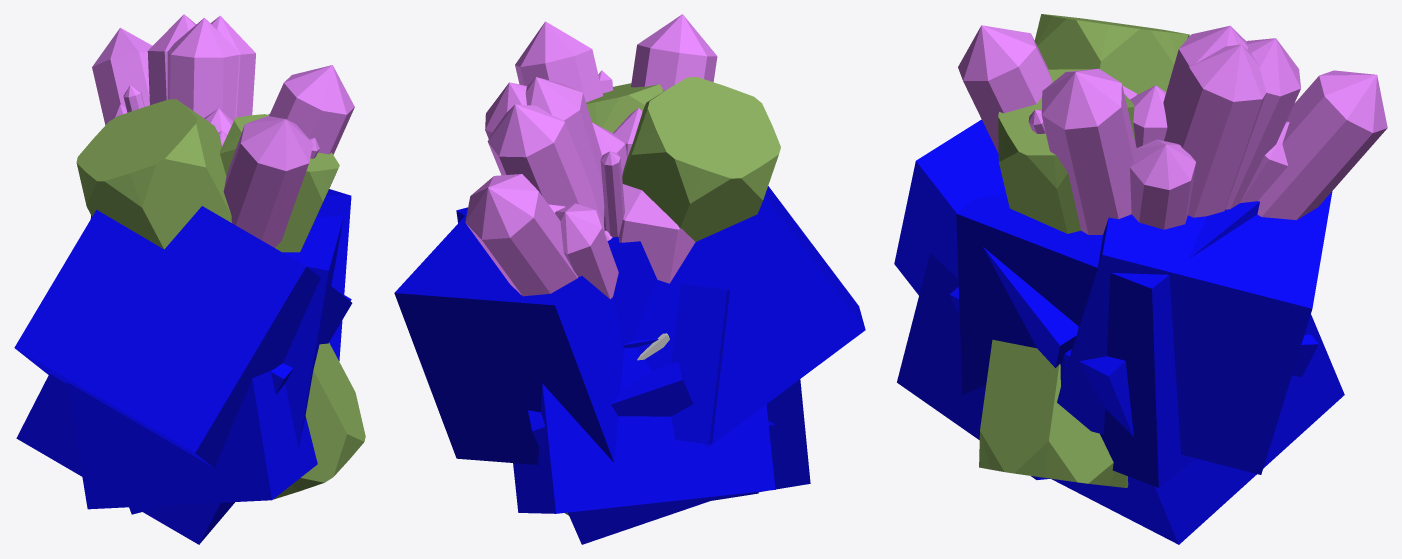
File: Crystalsv3.fbx
3 views of the same model, side by side, from view 1: azimuth 30°, elevation 25°; view 2: azimuth 150°, elevation 25°; view 3: azimuth 270°, elevation 25° (orthographic). The views are drawn at different scales.
Visible parts, largest first — view 1: Cube_4, Crystal_02_1, Cube_1, Crystal_01, Cube_0_2, Cube_3_2, Crystal_01_2_1_2, Crystal_02_0, Crystal_01_2_9_2, Cube_2, Crystal_01_2_5_2; view 2: Cube_2, Cube_4, Cube_0_2, Crystal_02_1, Crystal_01, Crystal_01_2_9_2, Crystal_01_2_5_2, Cube_3, Cube_0, Crystal_01_2_1_2, Crystal_01_2_5_1, Cube_1 (+4 smaller); view 3: Cube_2, Cube_3_2, Crystal_01, Crystal_02_1, Cube_0_2, Cube_4, Crystal_01_2_9_2, Crystal_01_2_1_2, Cube_1, Crystal_02_0, Crystal_01_11_2, Crystal_01_2_5_2 (+1 smaller).
Part boxes in pixels (box(x1,y1,x2,y2)): Cube_4: box(14, 206, 352, 467); Crystal_02_1: box(76, 99, 365, 499); Cube_1: box(67, 341, 329, 509); Crystal_01: box(167, 15, 313, 247); Cube_0_2: box(16, 295, 351, 544); Cube_3_2: box(282, 216, 343, 448); Crystal_01_2_1_2: box(269, 65, 354, 154); Crystal_02_0: box(220, 114, 339, 252); Crystal_01_2_9_2: box(92, 27, 152, 124); Cube_2: box(90, 189, 351, 360); Crystal_01_2_5_2: box(147, 14, 195, 105); Cube_2: box(394, 214, 623, 464); Cube_4: box(632, 186, 865, 448); Cube_0_2: box(513, 347, 775, 513); Crystal_02_1: box(622, 77, 780, 241); Crystal_01: box(485, 14, 717, 240); Crystal_01_2_9_2: box(465, 174, 578, 296); Crystal_01_2_5_2: box(487, 104, 604, 230); Cube_3: box(671, 284, 729, 444); Cube_0: box(528, 362, 727, 544); Crystal_01_2_1_2: box(515, 21, 602, 102); Crystal_01_2_5_1: box(604, 168, 695, 283); Cube_1: box(622, 337, 810, 499); Cube_2: box(1057, 191, 1332, 474); Cube_3_2: box(956, 193, 1259, 487); Crystal_01: box(958, 25, 1289, 217); Crystal_02_1: box(979, 14, 1189, 487); Cube_0_2: box(950, 287, 1344, 544); Cube_4: box(894, 119, 1078, 367); Crystal_01_2_9_2: box(1257, 70, 1387, 219); Crystal_01_2_1_2: box(1041, 68, 1136, 234); Cube_1: box(897, 253, 1067, 479); Crystal_02_0: box(998, 69, 1135, 233); Crystal_01_11_2: box(1130, 139, 1195, 229); Crystal_01_2_5_2: box(1225, 38, 1300, 209).
Bounding box in the file's own units: 255 × 297 × 267.
